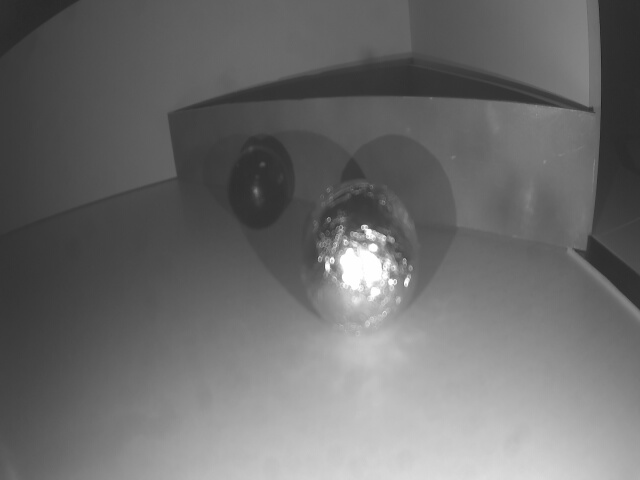Dead: (232, 155, 294, 226)
Green: (165, 112, 595, 253)
Live: (305, 186, 417, 339)
